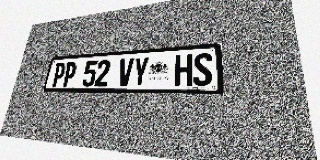2: (94, 59, 111, 87)
5: (82, 60, 98, 87)
H: (174, 54, 193, 86)
P: (51, 62, 67, 87), (62, 62, 78, 87)
S: (193, 53, 213, 86)
V: (117, 58, 134, 87)
Y: (132, 57, 149, 86)
